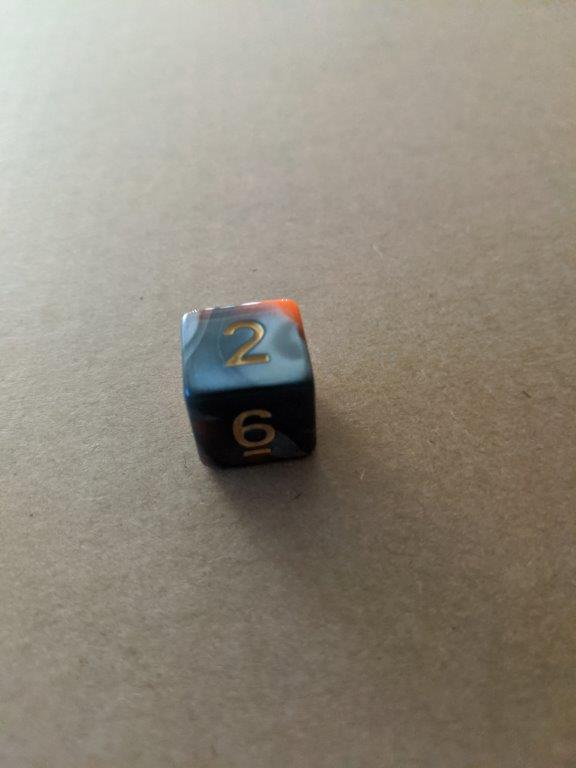d6-2: (178, 299, 318, 468)
